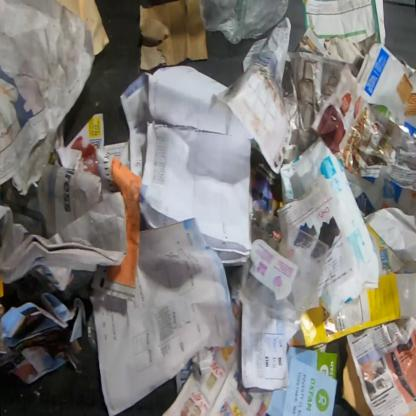cardboard: (299, 220, 415, 349), (355, 40, 415, 140), (138, 0, 209, 71), (344, 160, 416, 219), (340, 338, 374, 415)
rigid_plastic: (238, 206, 330, 322), (87, 309, 98, 353)
soft_plastic: (198, 0, 290, 45)
